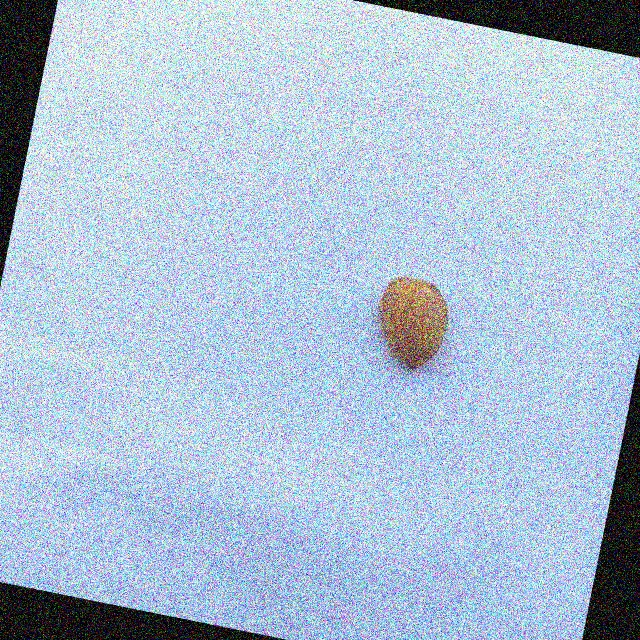grade2: (362, 268, 459, 378)
